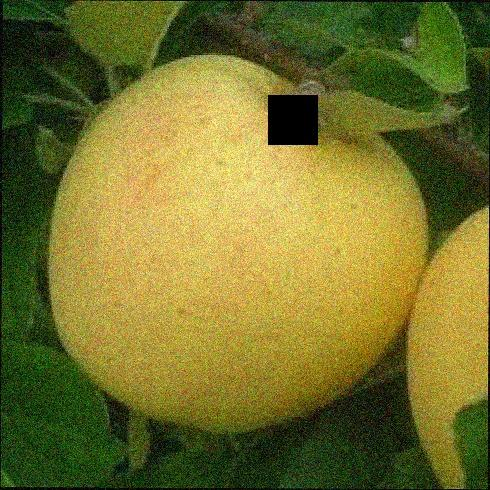green apple: (30, 48, 429, 441)
